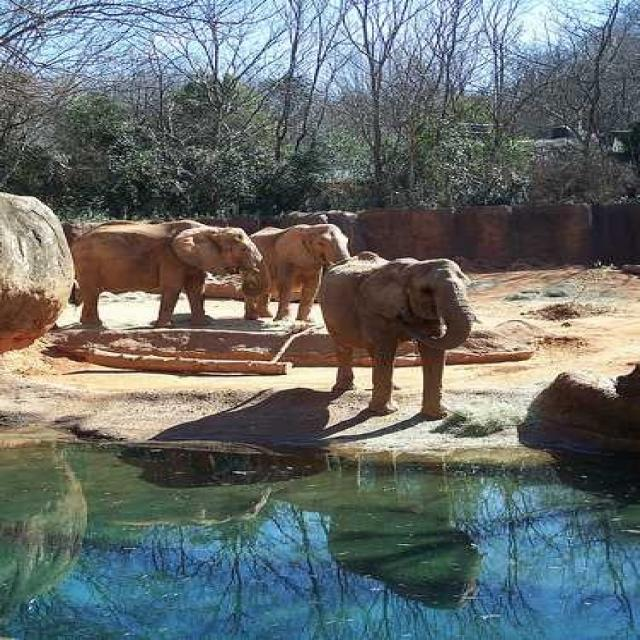Elephant: (316, 250, 478, 420), (67, 219, 268, 328), (242, 222, 350, 322)
